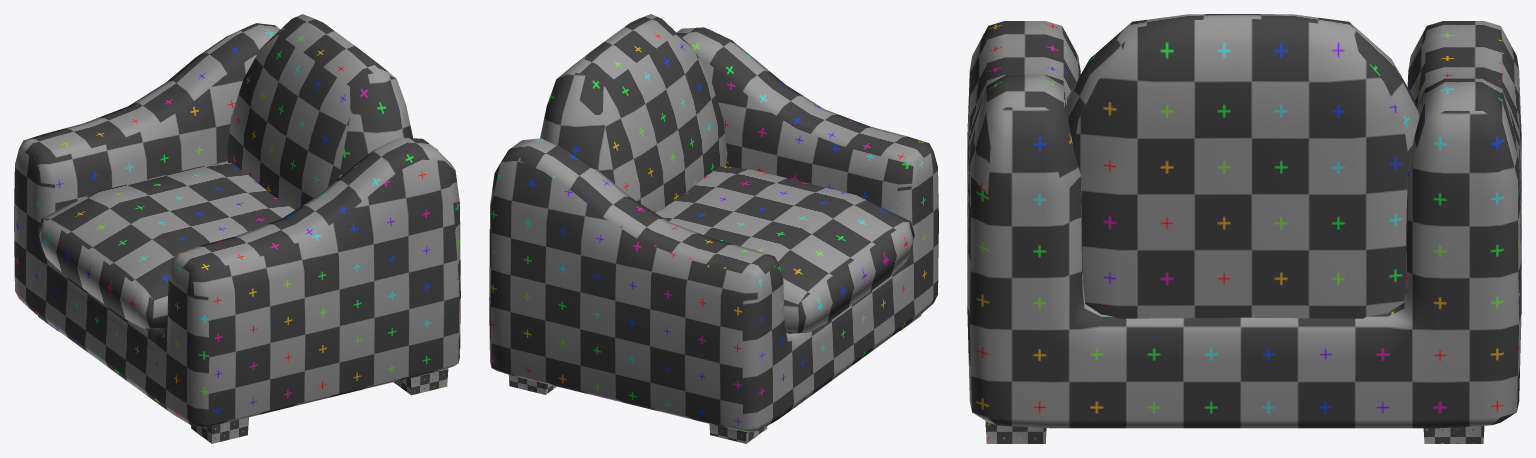
The model's file is armchair_uv.glb.
3 renders of one model, left to right at view 1: azimuth 30°, elevation 25°; view 2: azimuth 150°, elevation 25°; view 3: azimuth 270°, elevation 25°, orthographic. The views are drawn at different scales.
Parts seen in each view (by area): view 1: Base, Back, Cushion, Legs; view 2: Base, Back, Cushion, Legs; view 3: Base, Back, Legs.
Part boxes in pixels (left/top/right/bottom): Base: left=14, top=23, right=460, bottom=427; Back: left=227, top=14, right=412, bottom=209; Cushion: left=38, top=163, right=294, bottom=329; Legs: left=38, top=316, right=448, bottom=443; Base: left=489, top=27, right=938, bottom=432; Back: left=540, top=14, right=727, bottom=213; Cushion: left=656, top=166, right=914, bottom=333; Legs: left=508, top=314, right=921, bottom=443; Base: left=967, top=21, right=1521, bottom=428; Back: left=1066, top=14, right=1419, bottom=318; Legs: left=985, top=421, right=1484, bottom=443.
Size of the model in its own units: 1.29 by 1.25 by 1.52.
1 material, 1 textured.
